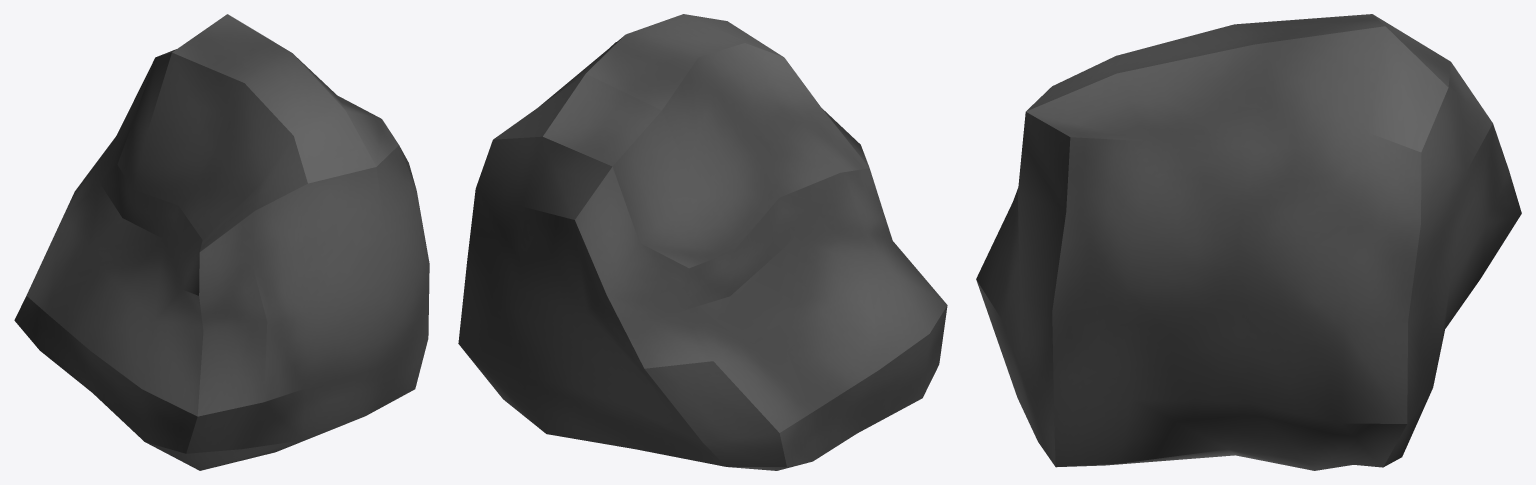
File: GAMEJAMPUFFER - ForeGround Rock 9.fbx
3 views of the same model, side by side, from view 1: azimuth 30°, elevation 25°; view 2: azimuth 150°, elevation 25°; view 3: azimuth 270°, elevation 25° (orthographic). The views are drawn at different scales.
Parts seen in each view (by area): view 1: Cube.006; view 2: Cube.006; view 3: Cube.006.
Boxes of the visible parts, box(x1,y1,x2,y2) form: Cube.006: box(14, 14, 429, 470); Cube.006: box(458, 14, 947, 470); Cube.006: box(976, 14, 1521, 470).
Bounding box in the file's own units: 163 × 175 × 194.
Materials: 1 (1 with a texture image).
